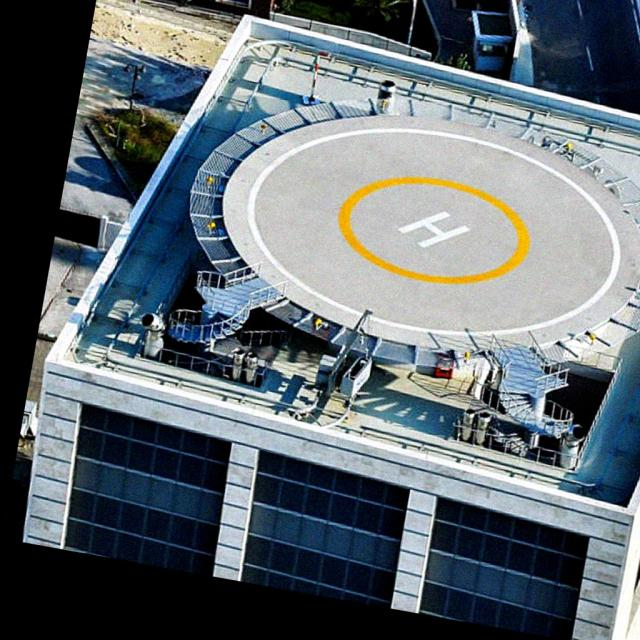helipad: (334, 174, 534, 286)
